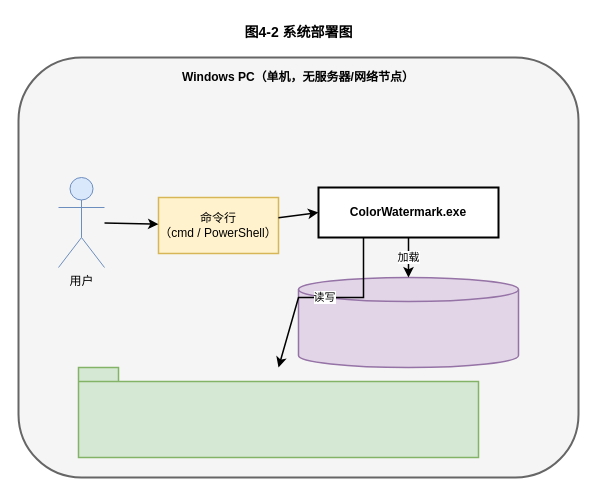
The diagram is 596 pixels wide and 495 high, and some of its shapes have lost their labels. Here are the shapes that lost their labels. From the top down, the box of each, then its label:
(297, 276, 519, 368): opencv_world480.dll （Release；Debug 多为 *480d.dll，依本机构建而定）
(77, 366, 479, 458): 输入 / 输出图像文件 （载体、水印、含水印图、提取结果等）
